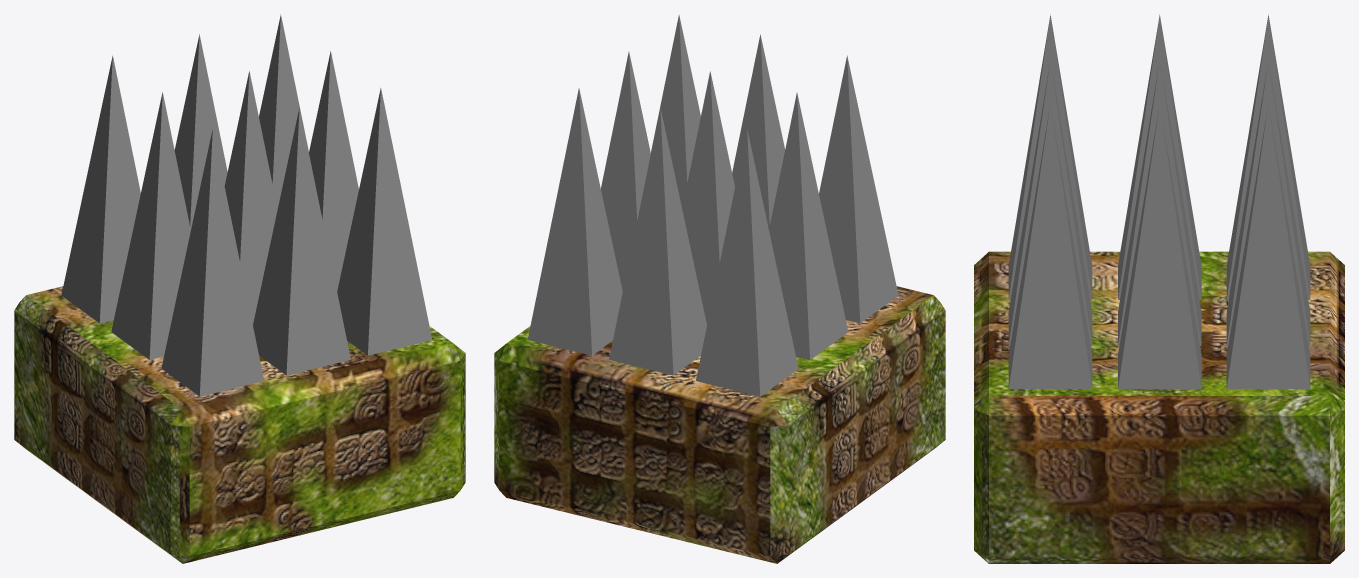
Rendered from cubo_espina2.FBX.
The picture shows the model from 3 angles, left to right: view 1: azimuth 30°, elevation 25°; view 2: azimuth 150°, elevation 25°; view 3: azimuth 270°, elevation 25°; orthographic projection. The views are drawn at different scales.
Visible parts, largest first — view 1: Pyramid06, cubo2; view 2: Pyramid06, cubo2; view 3: cubo2, Pyramid06.
Boxes of the visible parts, left/top/right/bottom form: Pyramid06: left=61, top=14, right=432, bottom=396; cubo2: left=14, top=286, right=465, bottom=563; Pyramid06: left=527, top=14, right=898, bottom=396; cubo2: left=494, top=286, right=945, bottom=563; cubo2: left=974, top=251, right=1344, bottom=563; Pyramid06: left=1008, top=14, right=1310, bottom=389.
Size of the model in its own units: 0.3937 by 0.5117 by 0.3937.
